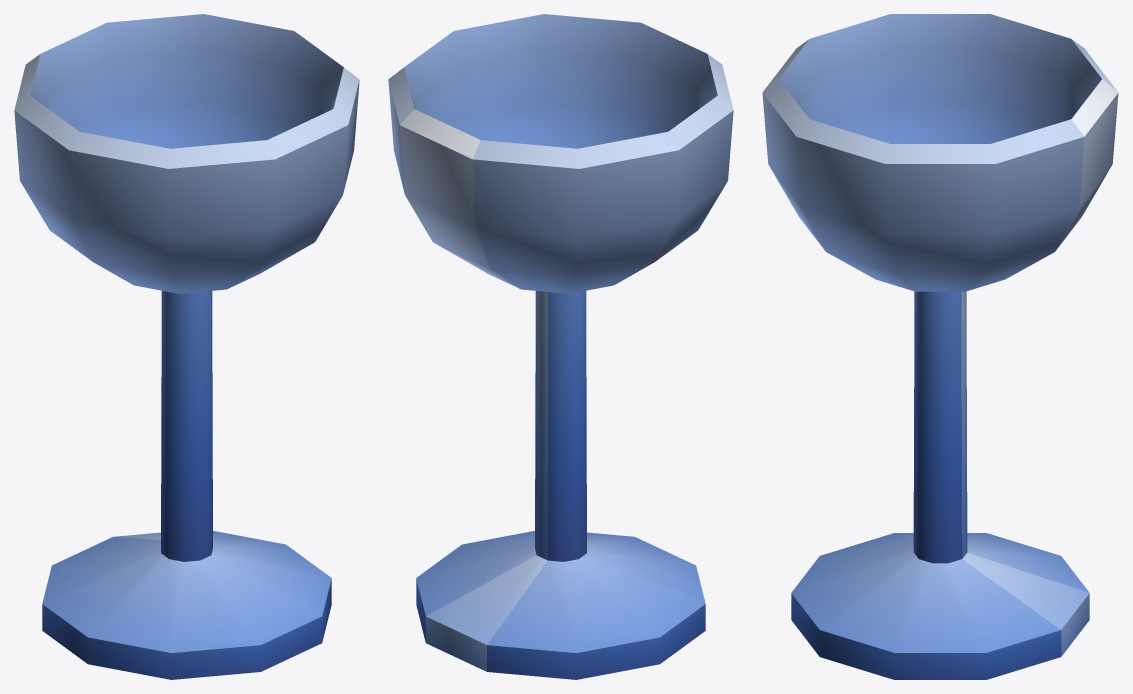
The model's file is m_Glass04.fbx.
3 views of the same model, side by side, from view 1: azimuth 30°, elevation 25°; view 2: azimuth 150°, elevation 25°; view 3: azimuth 270°, elevation 25° (orthographic).
Parts seen in each view (by area): view 1: m_Glass04; view 2: m_Glass04; view 3: m_Glass04.
Boxes of the visible parts, box(x1,y1,x2,y2) form: m_Glass04: box(14, 14, 359, 679); m_Glass04: box(388, 14, 733, 679); m_Glass04: box(762, 14, 1118, 679).
Size of the model in its own units: 11.35 by 20 by 11.93.
